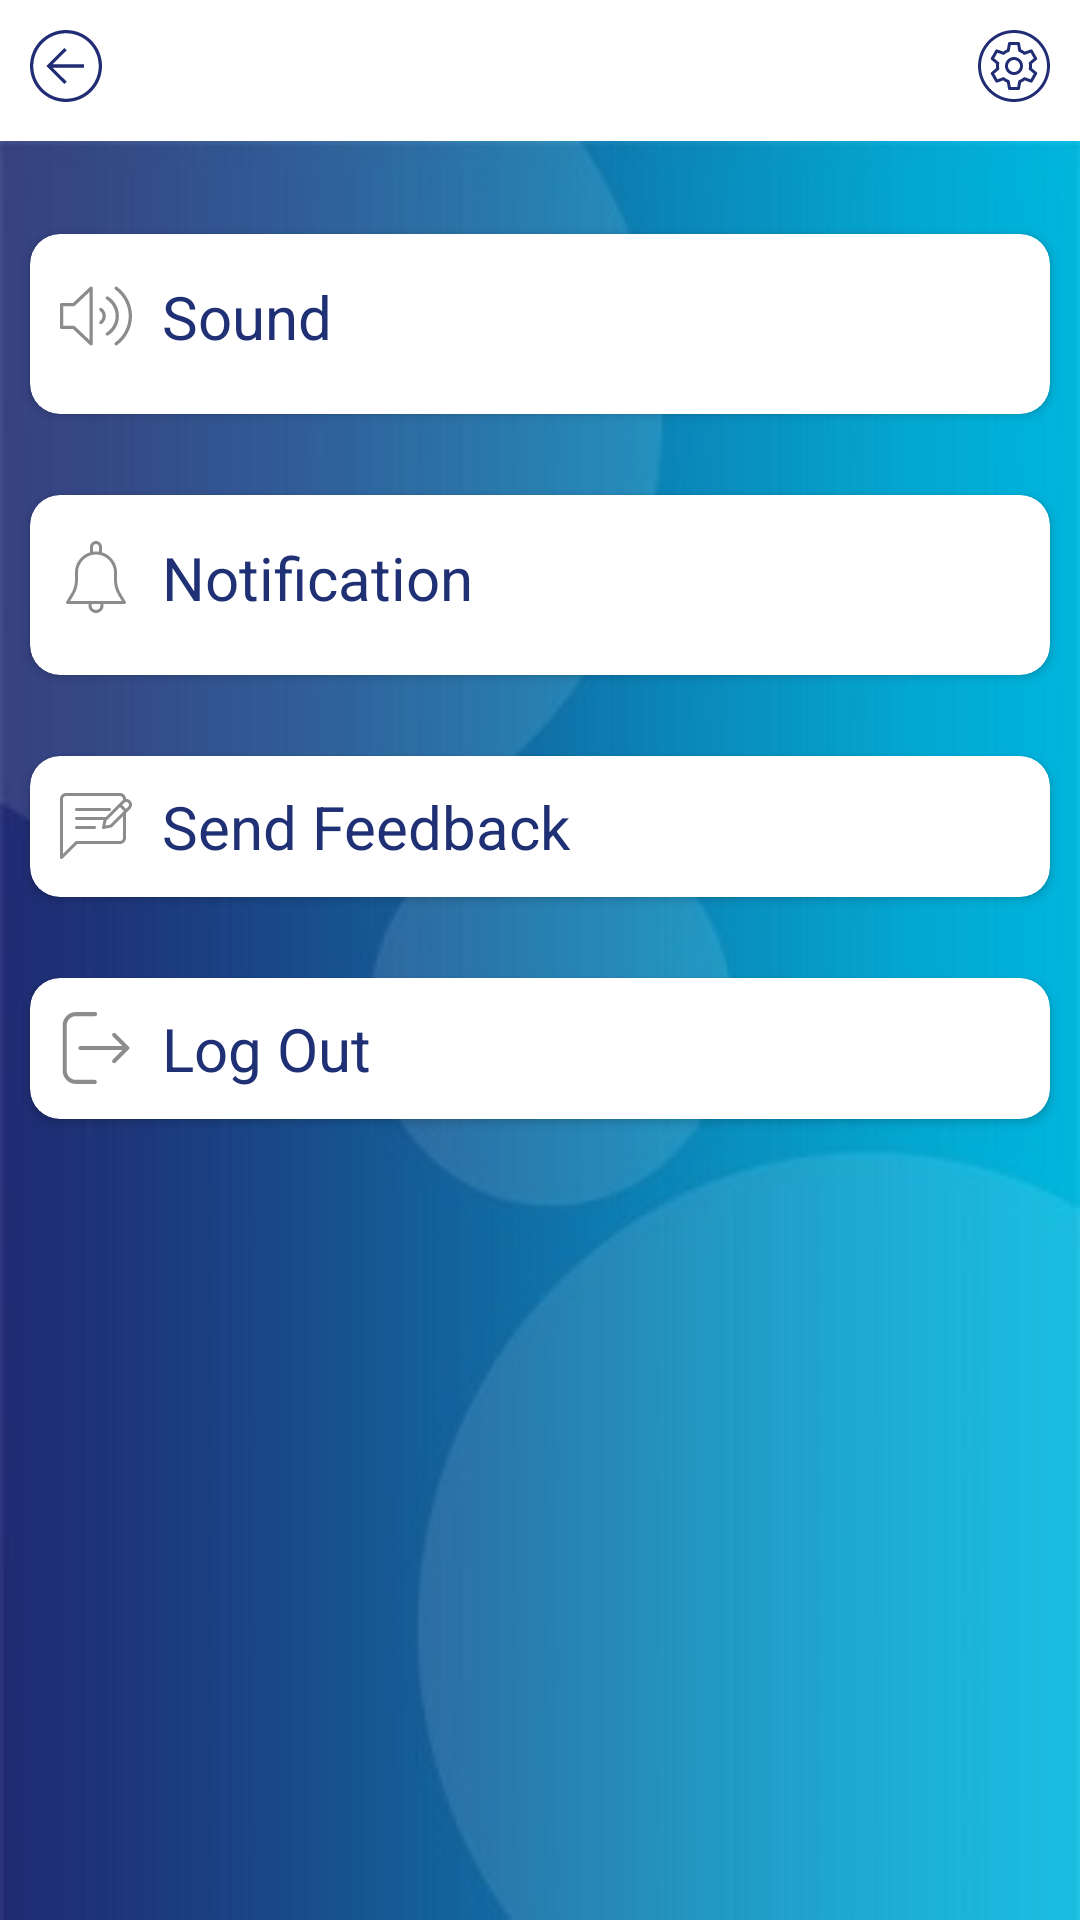

Icon click points for this 1080px x 1920px phone screenshot, format point (x, y):
profile backpress: point (66, 66)
profile settings: point (1014, 66)
